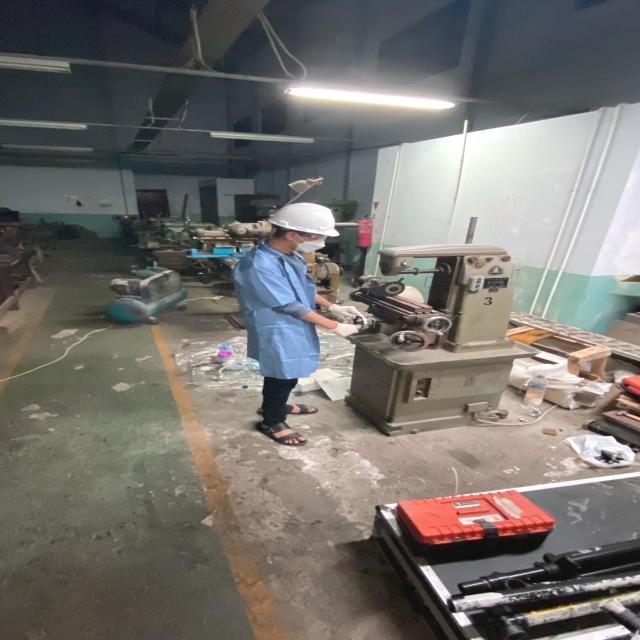face_mask: (292, 232, 332, 254)
glasses: (298, 232, 332, 242)
hand_noglove: (326, 302, 368, 325), (328, 320, 359, 338)
head_helmet: (269, 202, 342, 236)
